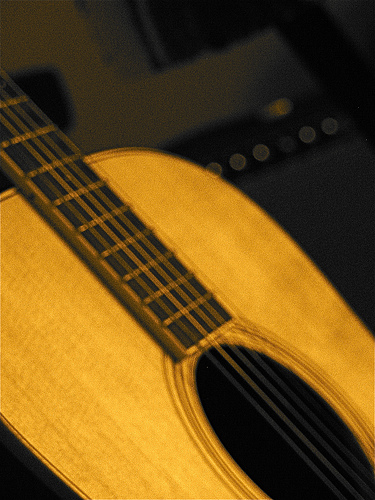guitar: (1, 66, 375, 500)
